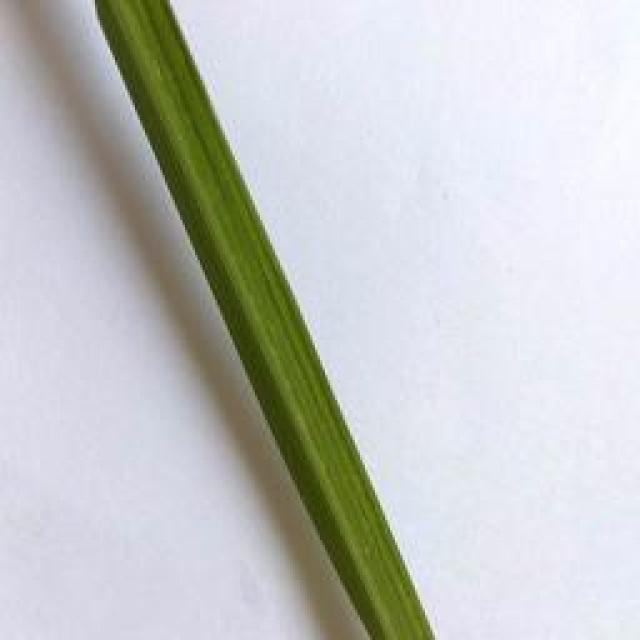Healthy-Plant: (92, 0, 435, 640)
